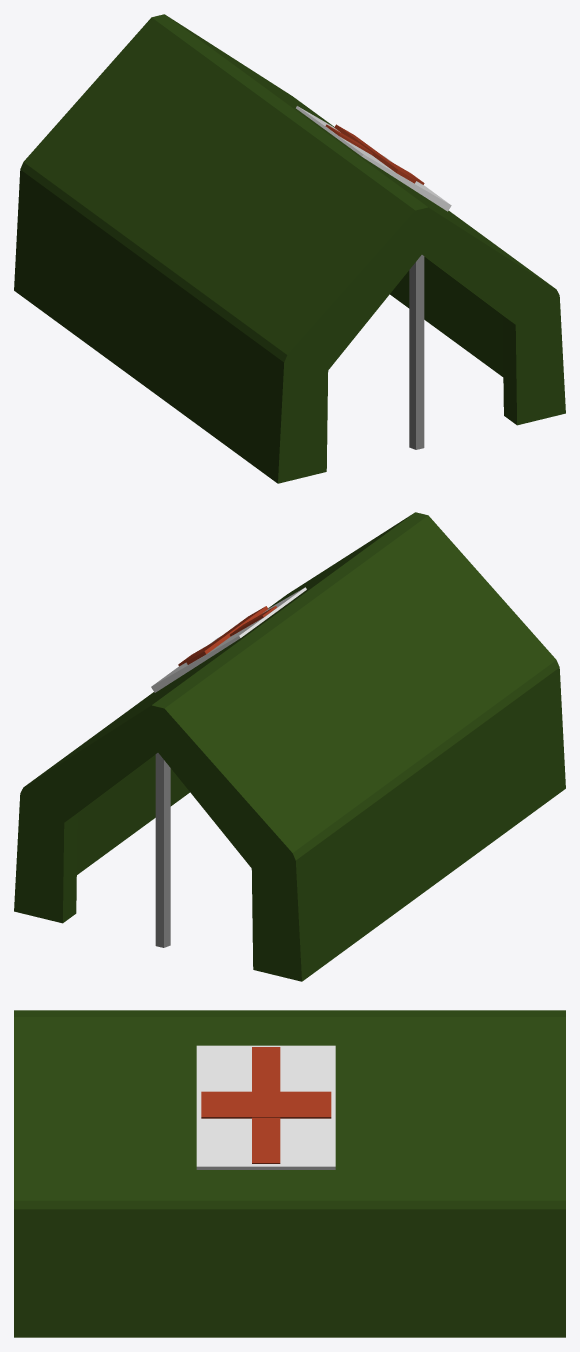
File: MedicTent.glb
The picture shows the model from 3 angles, top to bottom: view 1: azimuth 30°, elevation 25°; view 2: azimuth 150°, elevation 25°; view 3: azimuth 270°, elevation 25°; orthographic projection. The views are drawn at different scales.
Visible parts, largest first — view 1: MedicTent; view 2: MedicTent; view 3: MedicTent.
Part boxes in pixels (box(x1,y1,x2,y2)): MedicTent: box(14, 14, 565, 483); MedicTent: box(14, 512, 565, 981); MedicTent: box(14, 1010, 565, 1337).
Size of the model in its own units: 5.36 by 4.29 by 8.5.
